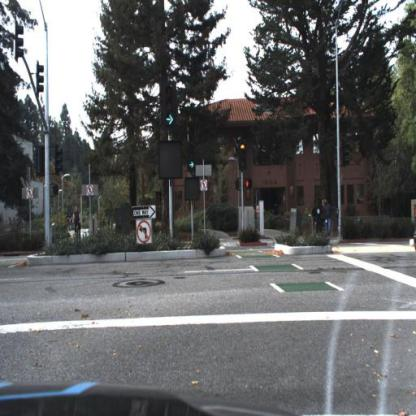biker: (72, 205, 82, 240)
pedestrian: (323, 198, 339, 241), (313, 197, 322, 243), (313, 200, 323, 240), (324, 196, 333, 239)
trafficLight: (165, 82, 177, 130), (188, 144, 196, 173)
trafficLight-Red: (239, 144, 247, 172)
